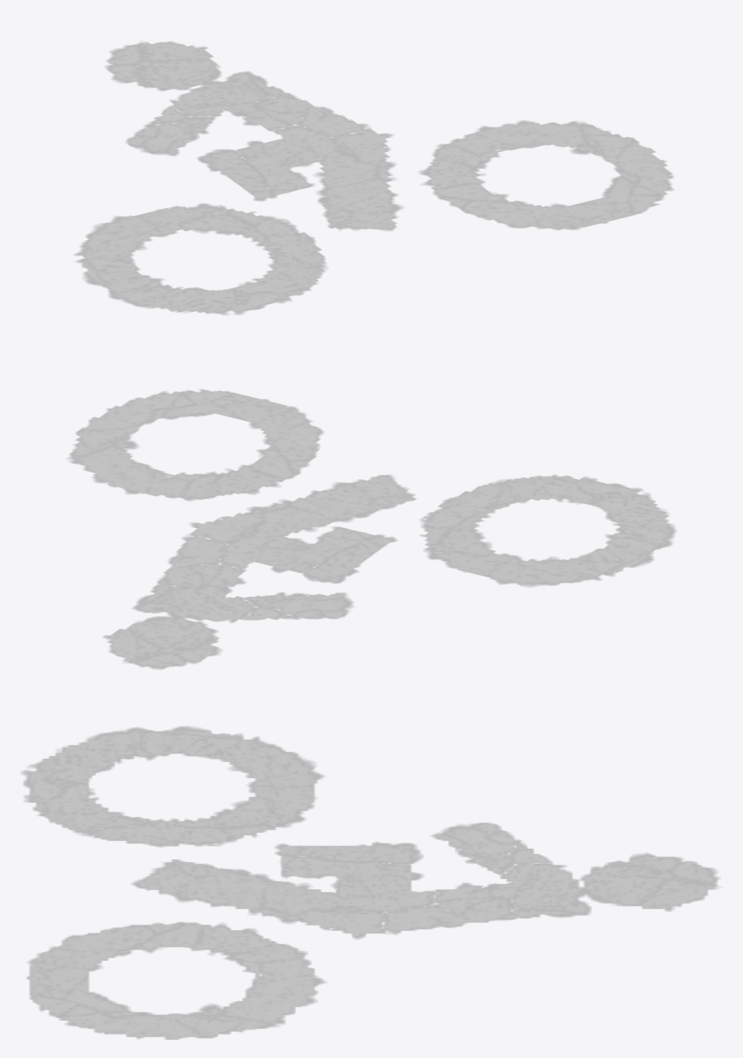
The model's file is decal_bikelane.glb.
3 views of the same model, one above another, from view 1: azimuth 30°, elevation 25°; view 2: azimuth 150°, elevation 25°; view 3: azimuth 270°, elevation 25° (orthographic). The views are drawn at different scales.
Visible parts, largest first — view 1: Decal_Bikelane; view 2: Decal_Bikelane; view 3: Decal_Bikelane.
Boxes of the visible parts, x1,y1,x2,y2 form: Decal_Bikelane: [74, 41, 672, 314]; Decal_Bikelane: [69, 389, 675, 669]; Decal_Bikelane: [22, 726, 718, 1039].
Bounding box in the file's own units: 2.97 × 0 × 2.82.
1 material, 1 textured.
